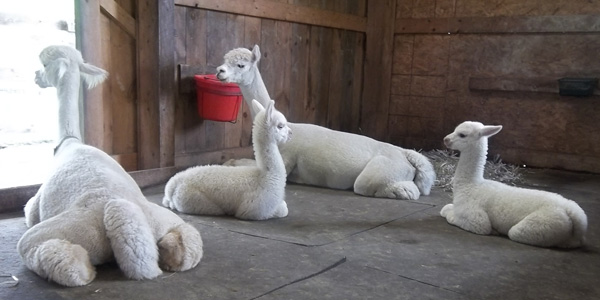alpaca: (16, 45, 204, 287), (214, 44, 436, 200), (441, 119, 590, 251), (161, 98, 294, 223)
